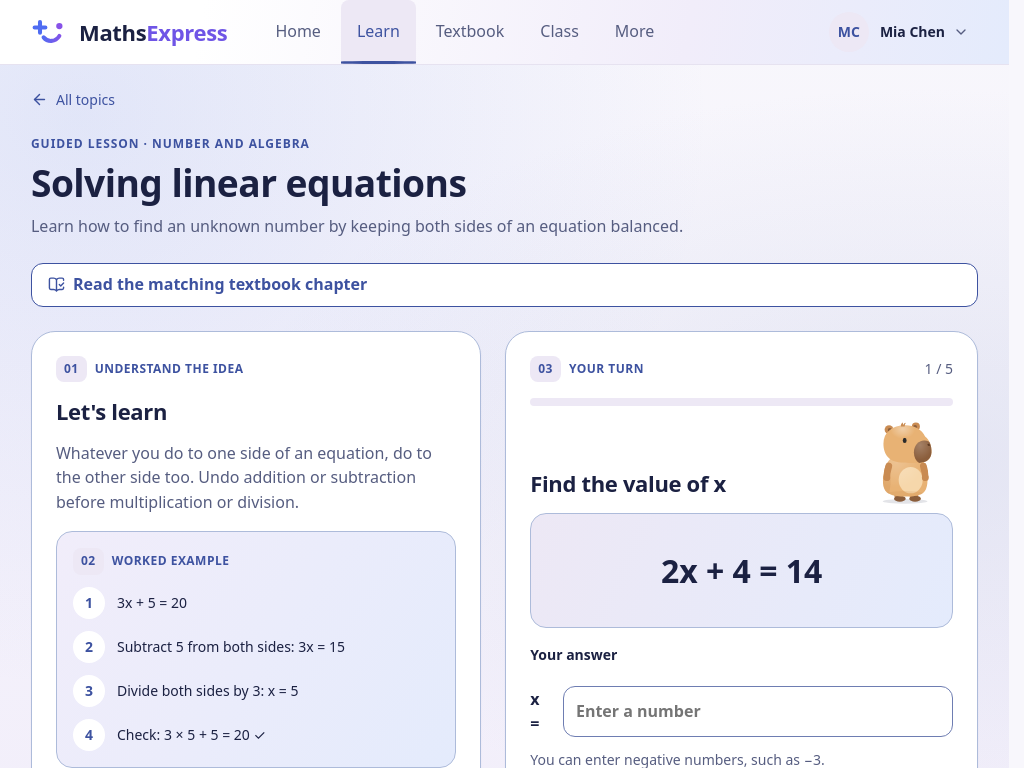
Test case: guided lesson practice › does not show a delayed reward message on the following question
The width and height of the screenshot is (1024, 768).
In the field labelled "Your answer": (758, 711) [563, 686, 953, 737], type "5"
(page scrolled)
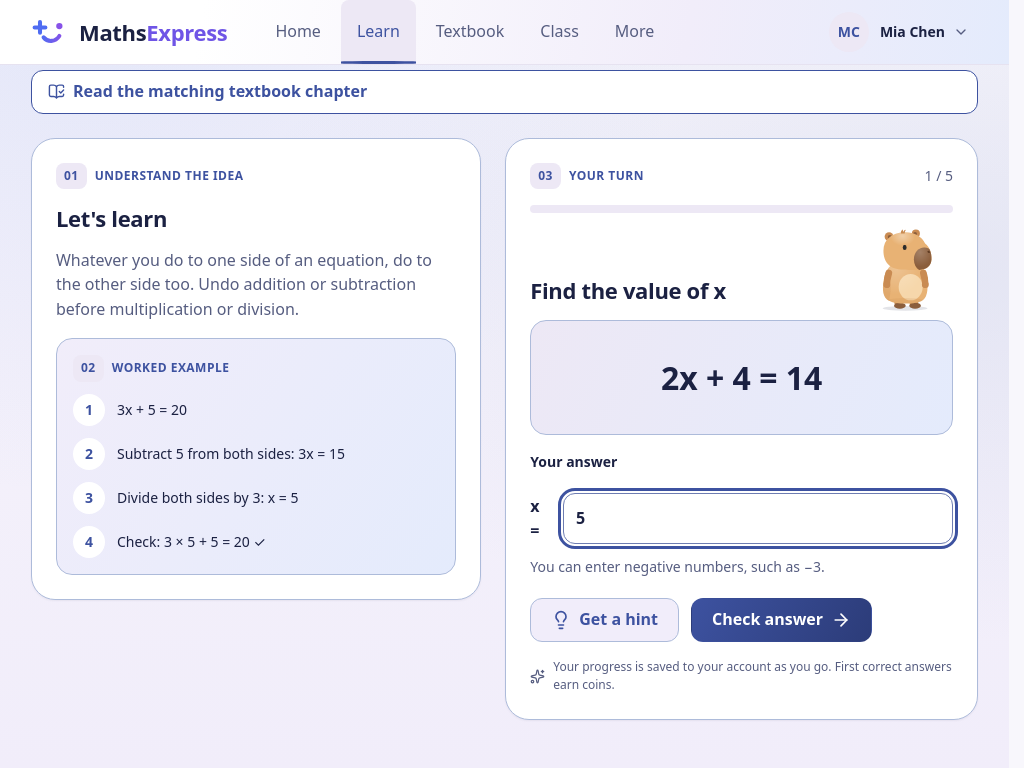
Click the button "Check answer": (782, 620) [691, 598, 872, 642]
(page scrolled)
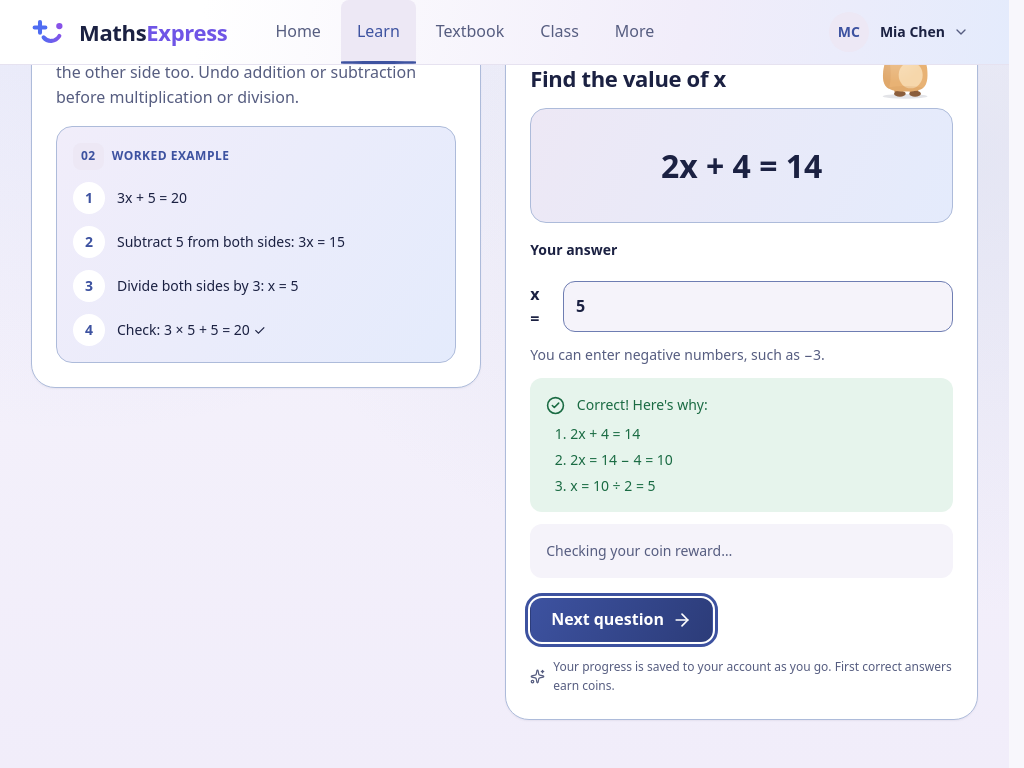
Check: the text "Checking your coin reward…" is shown, box [530, 524, 953, 578]
Click the button "Next question": (622, 620) [530, 598, 713, 642]
(page scrolled)
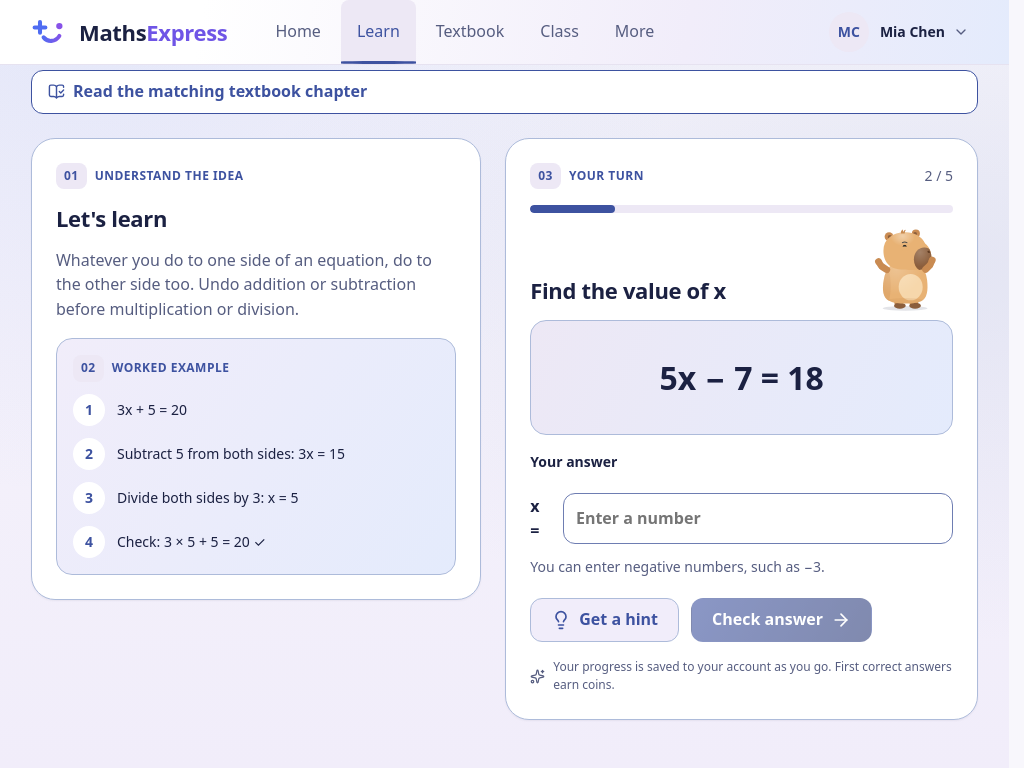
Check: the text "5x − 7 = 18" is shown, box [530, 320, 953, 435]
